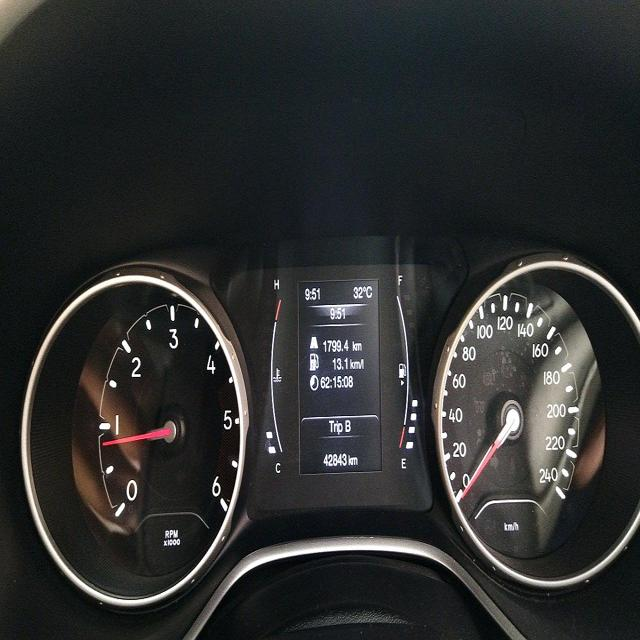odometer: (322, 448, 347, 472)
